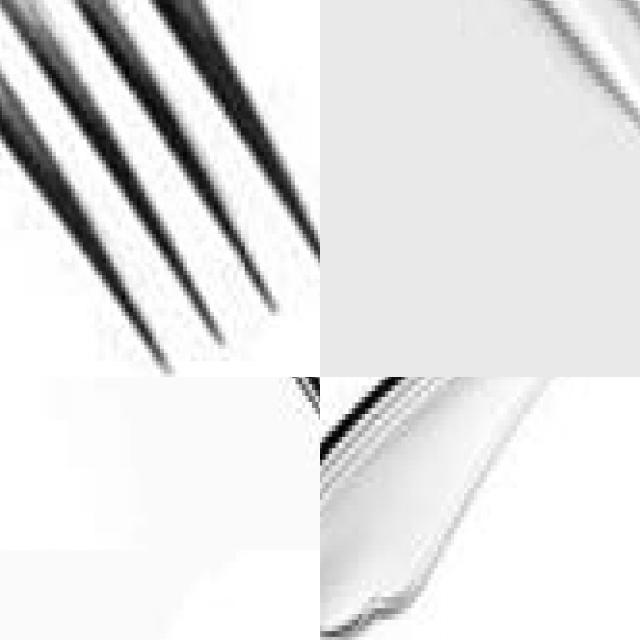forks: (0, 0, 320, 377), (0, 377, 320, 550), (465, 0, 640, 164)
